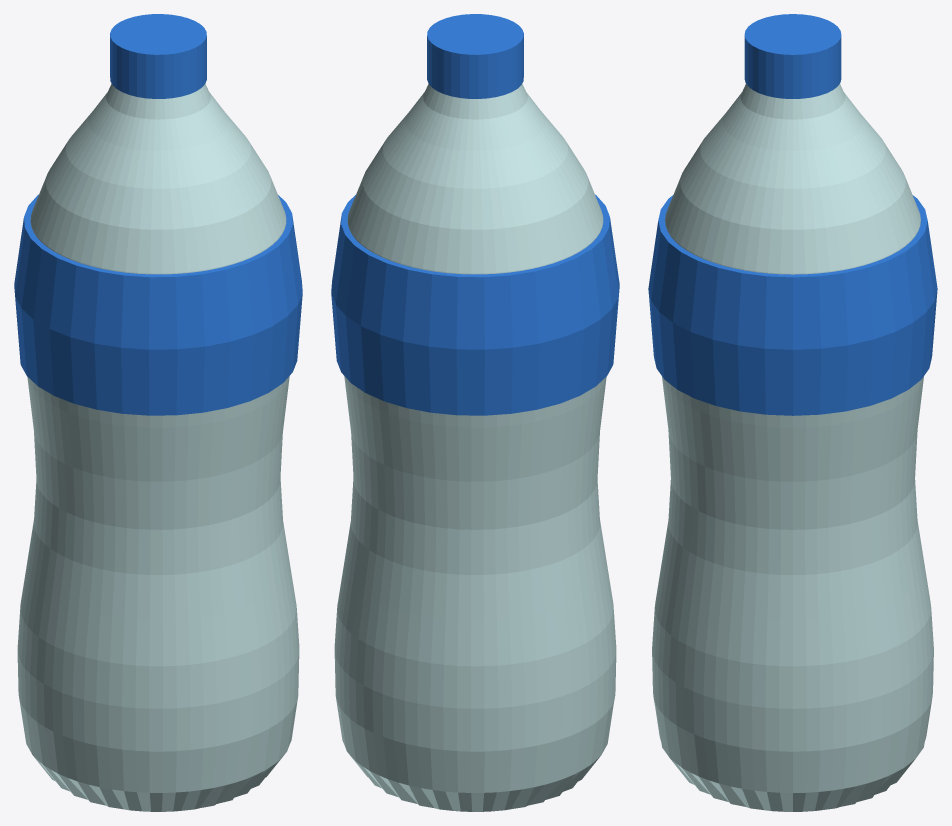
File: bottle.fbx
3 renders of one model, left to right at view 1: azimuth 30°, elevation 25°; view 2: azimuth 150°, elevation 25°; view 3: azimuth 270°, elevation 25°, orthographic.
Parts seen in each view (by area): view 1: Cylinder; view 2: Cylinder; view 3: Cylinder.
Part boxes in pixels (box(x1,y1,x2,y2)): Cylinder: box(14, 14, 302, 811); Cylinder: box(331, 14, 619, 811); Cylinder: box(648, 14, 937, 811).
Bounding box in the file's own units: 191 × 549 × 191.
